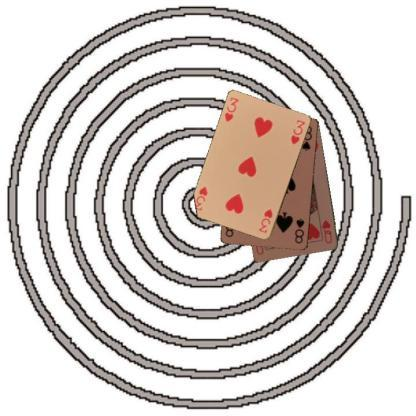3h: (256, 206, 274, 235), (222, 95, 240, 124)
8s: (292, 216, 306, 245)
Qh: (320, 218, 334, 245)
